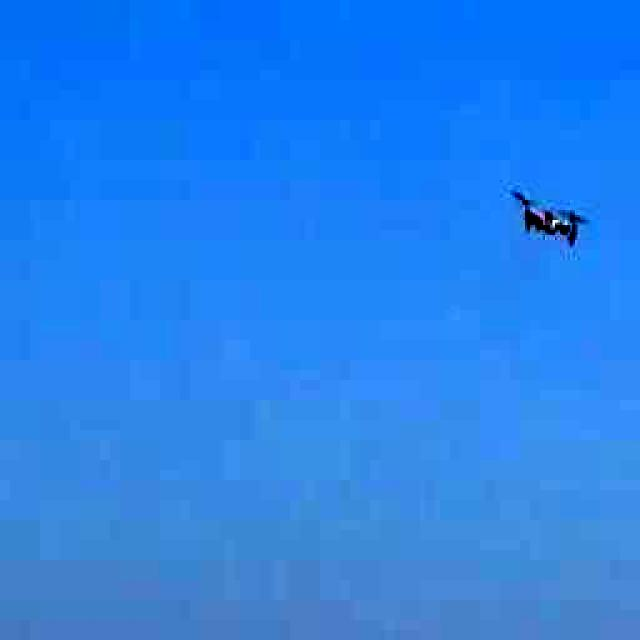bird: (494, 161, 599, 266)
